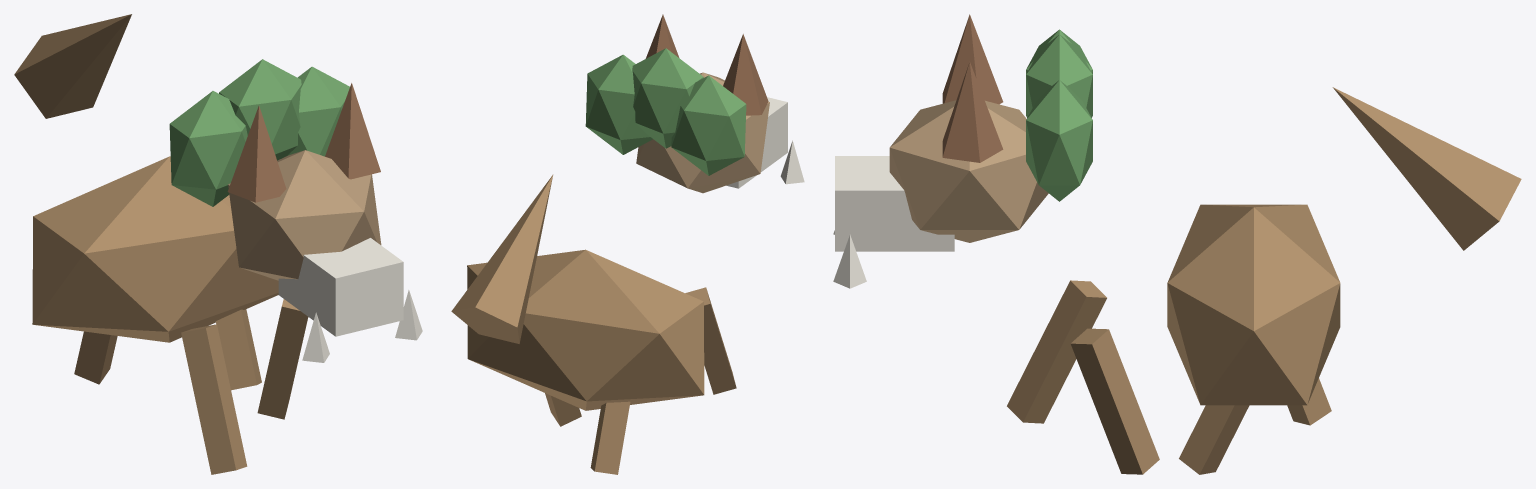
The model's file is npcpose_wolf_walk_10.glb.
3 views of the same model, side by side, from view 1: azimuth 30°, elevation 25°; view 2: azimuth 150°, elevation 25°; view 3: azimuth 270°, elevation 25° (orthographic). The views are drawn at different scales.
Visible parts, largest first — view 1: npcpose; view 2: npcpose; view 3: npcpose.
Boxes of the visible parts, box(x1,y1,x2,y2) form: npcpose: box(14, 14, 422, 474); npcpose: box(451, 14, 804, 474); npcpose: box(833, 14, 1521, 474).
Size of the model in its own units: 0.8873 by 1.22 by 1.84.
